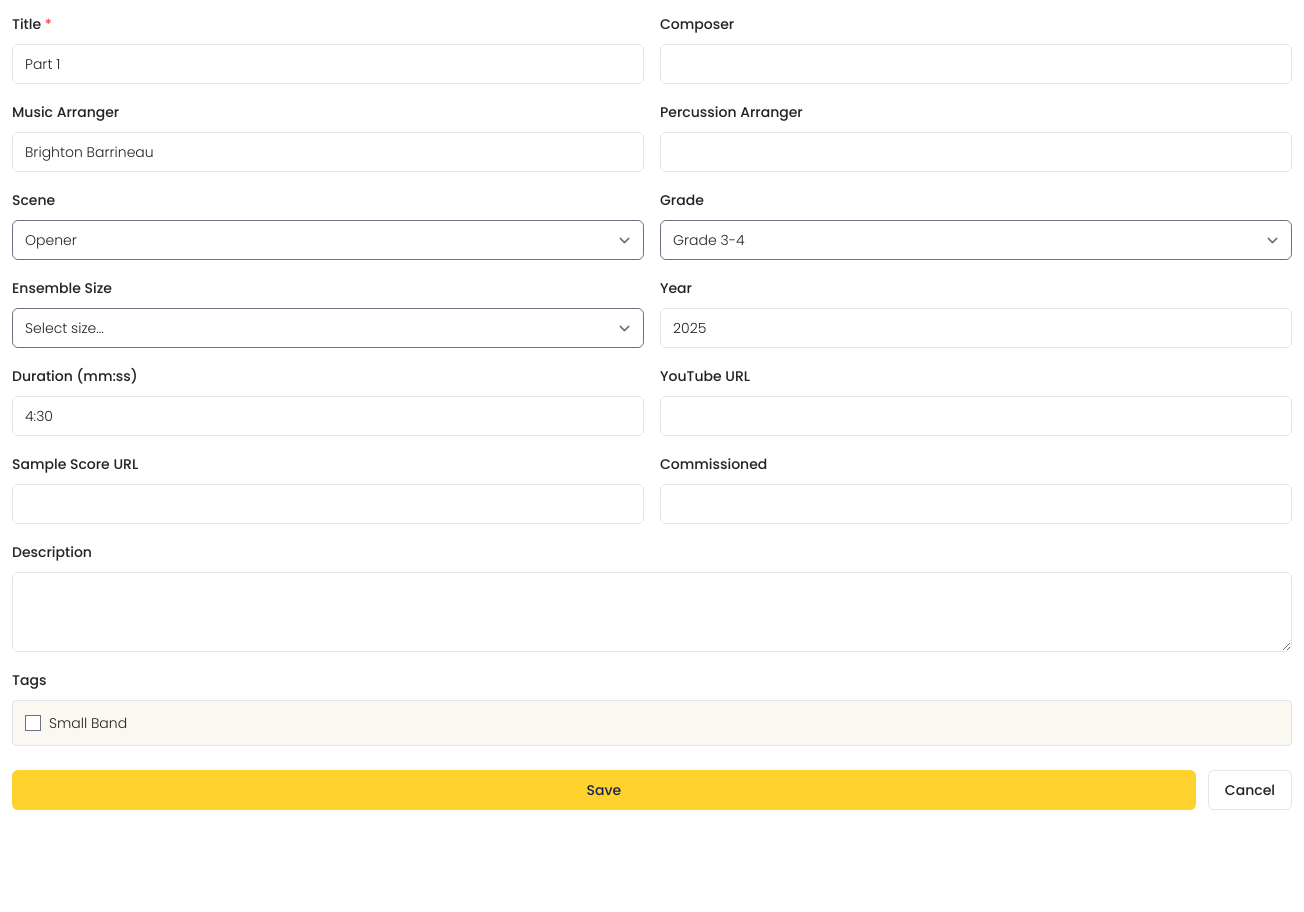
it: ArrangementForm › edit: loads the part, saves with its updatedAt, shows the stale alert
Expected: the field labelled "Duration (mm:ss)" holds "4:30", [12,396,644,436]
Expected: the dropdown labelled "Grade" shows "Grade 3-4", [660,220,1292,260]
Click the button "Save": (604, 790) [12,770,1196,810]
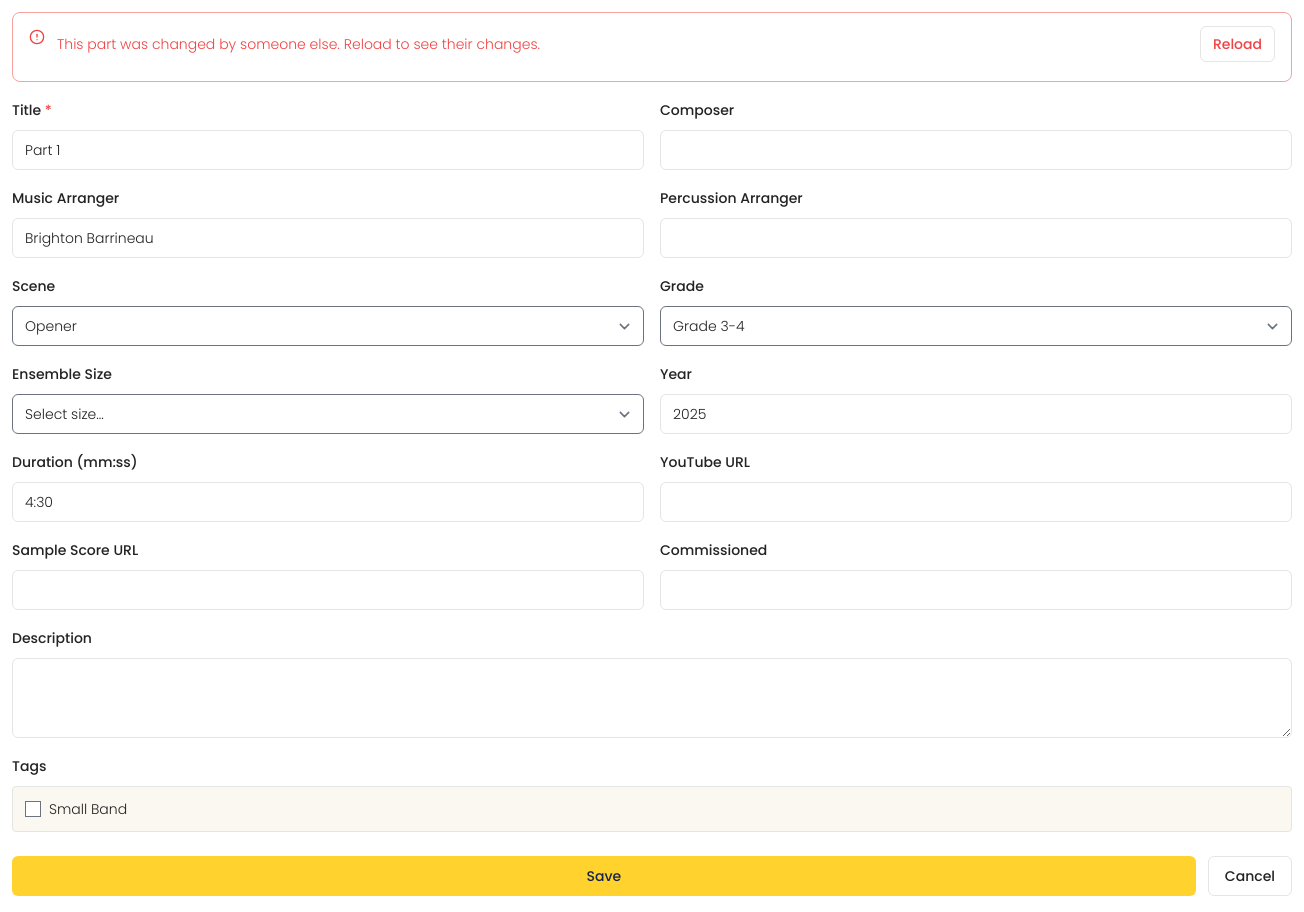
Expected: the text "This part was changed by someone else. Reload to see their changes." is shown, [57,34,540,54]
